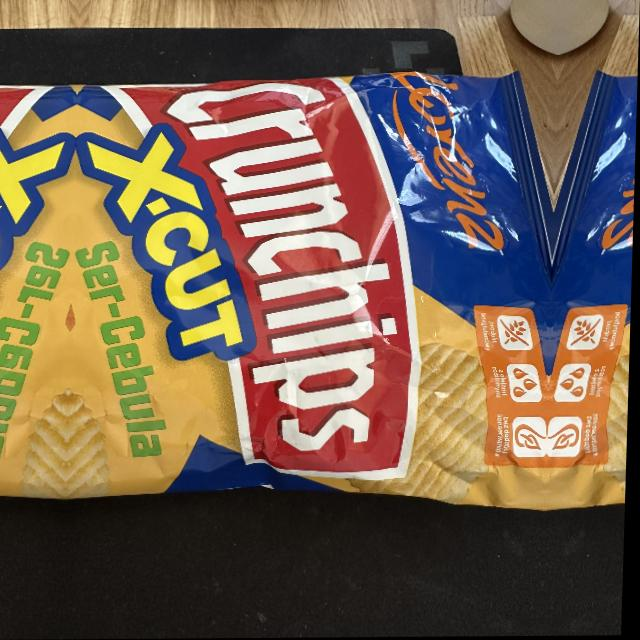crunchips: (103, 79, 425, 481)
